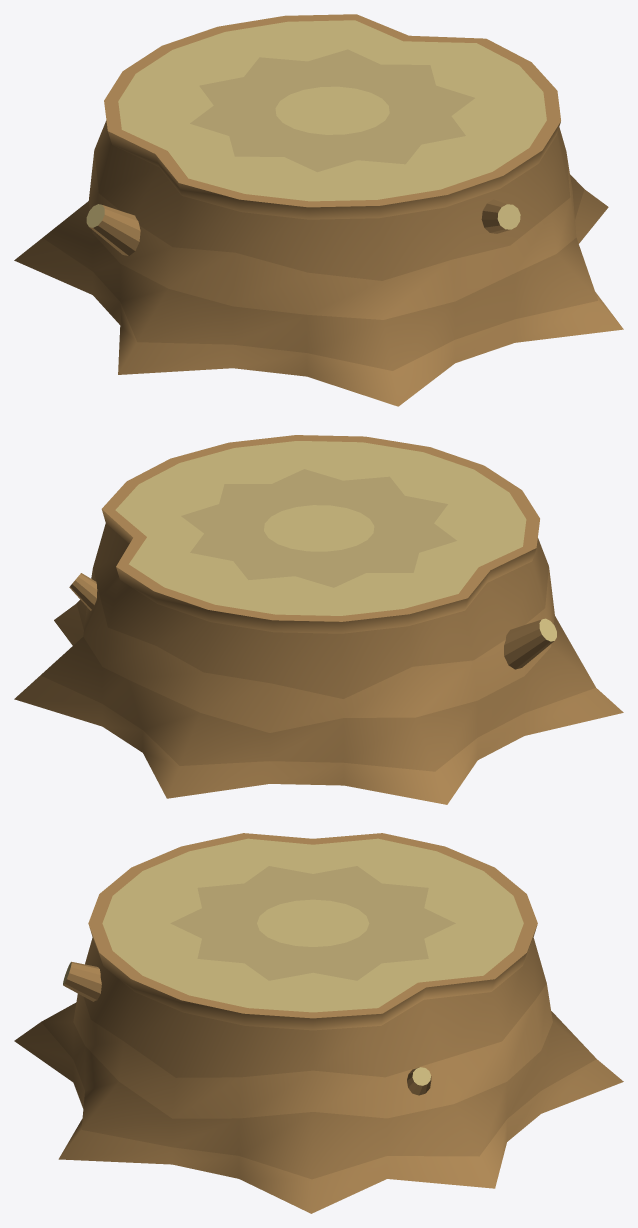
The model's file is A_TreeStump.fbx.
3 views of the same model, one above another, from view 1: azimuth 30°, elevation 25°; view 2: azimuth 150°, elevation 25°; view 3: azimuth 270°, elevation 25° (orthographic). The views are drawn at different scales.
Visible parts, largest first — view 1: pCylinder5; view 2: pCylinder5; view 3: pCylinder5.
Part boxes in pixels (left/top/right/bottom): pCylinder5: left=14, top=14, right=623, bottom=406; pCylinder5: left=14, top=435, right=623, bottom=804; pCylinder5: left=14, top=833, right=623, bottom=1213.
Bounding box in the file's own units: 49.07 × 14.13 × 49.07.
